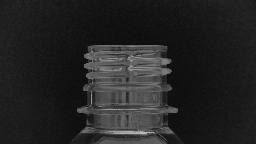No Cap: (73, 40, 183, 120)
